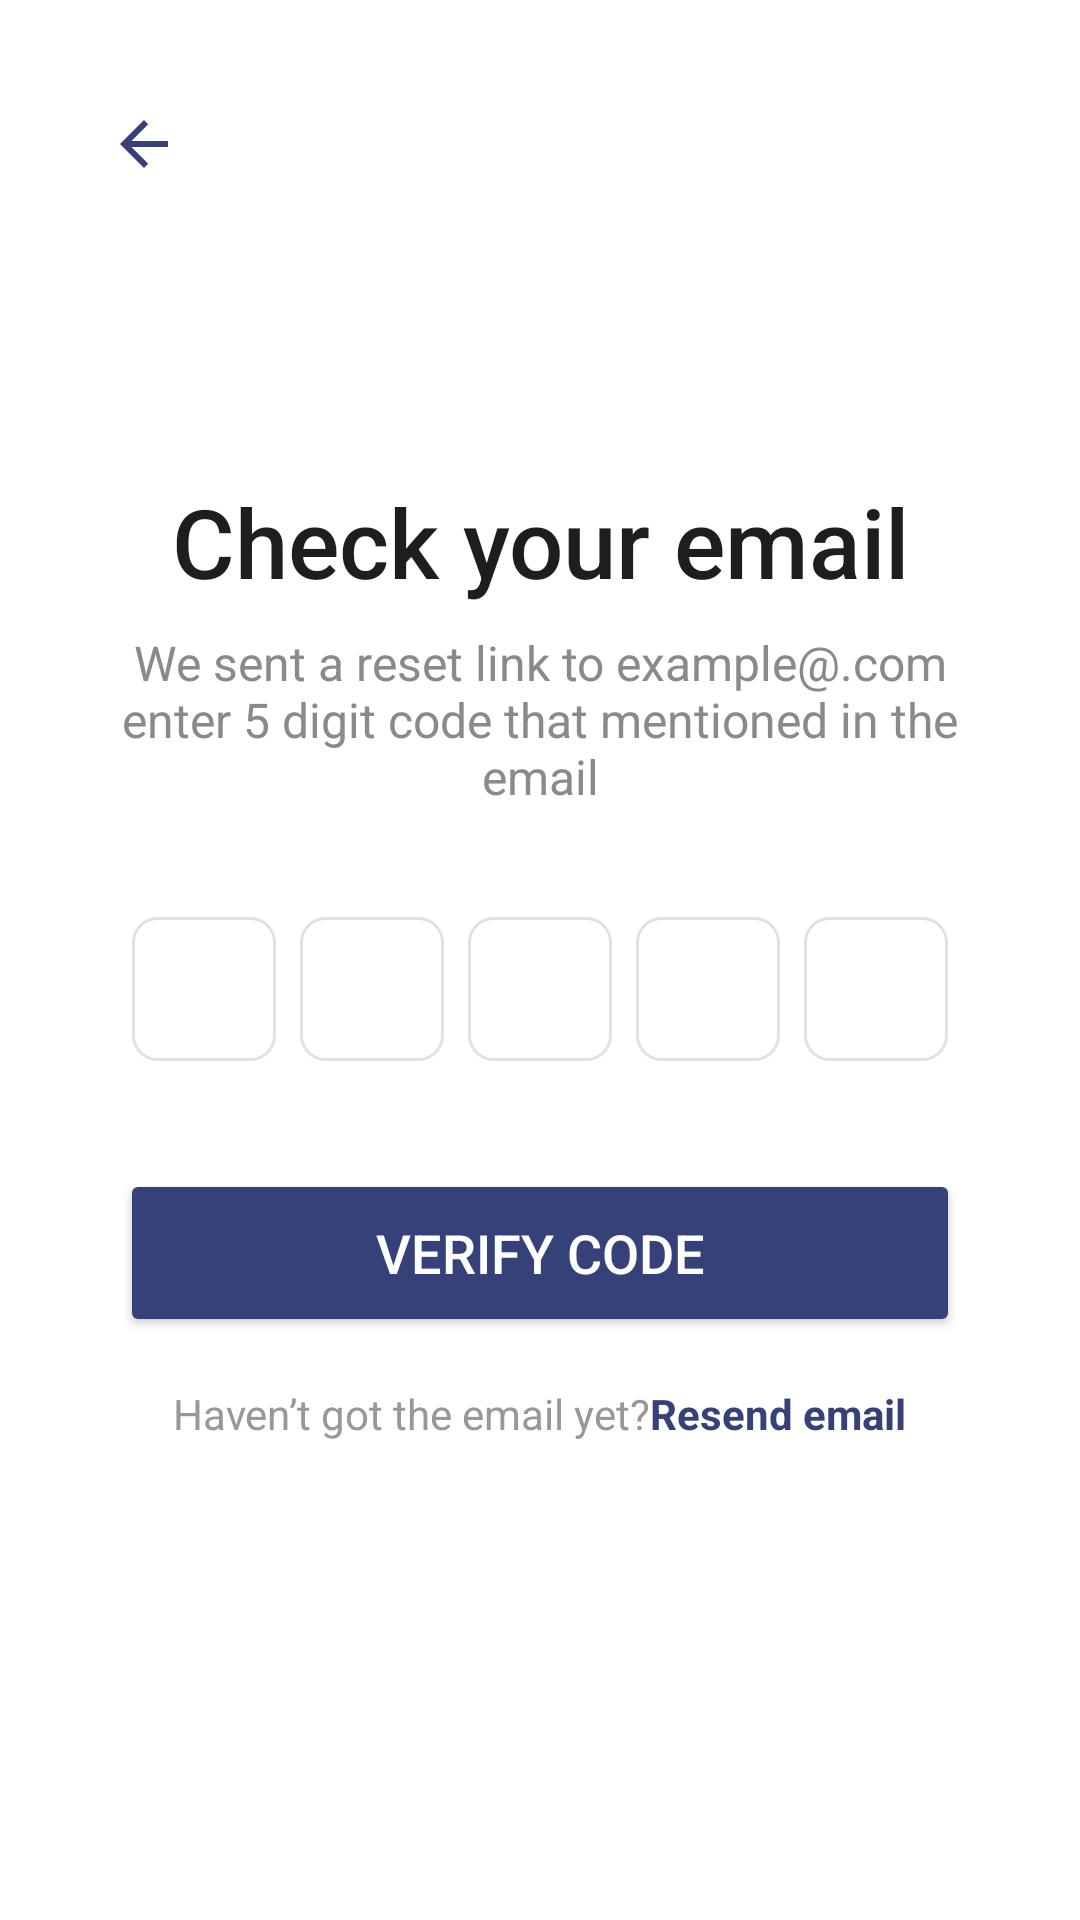

Where to tap for icons on this 1080*1920 app screen, as (x=x, y=y):
Navigate back: (x=144, y=144)
